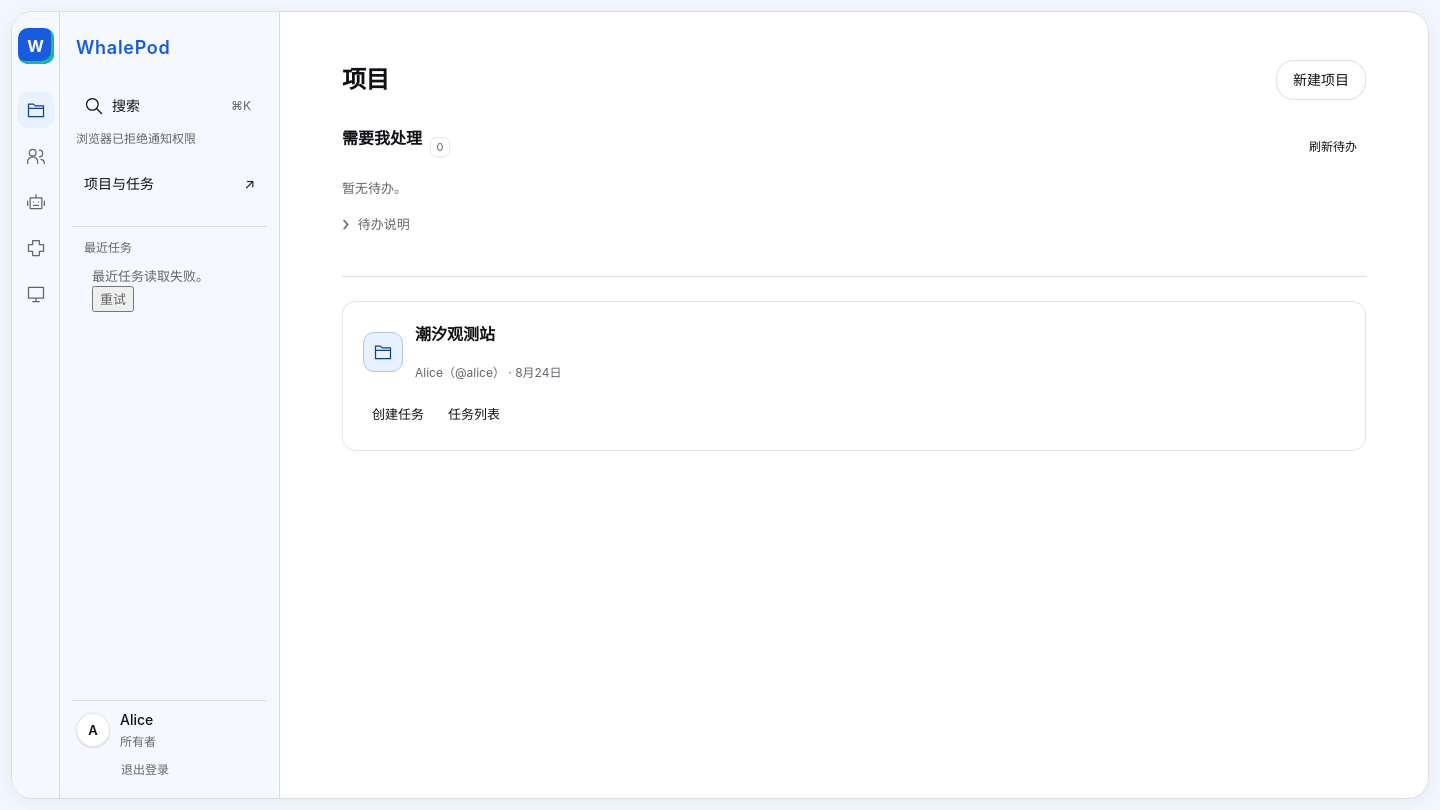
Test: #137 项目任务列表 › 空项目：明确空态而不是空白或报错
The image size is (1440, 810).
Click the button "任务列表".
click(474, 414)  # box [439,398,509,430]
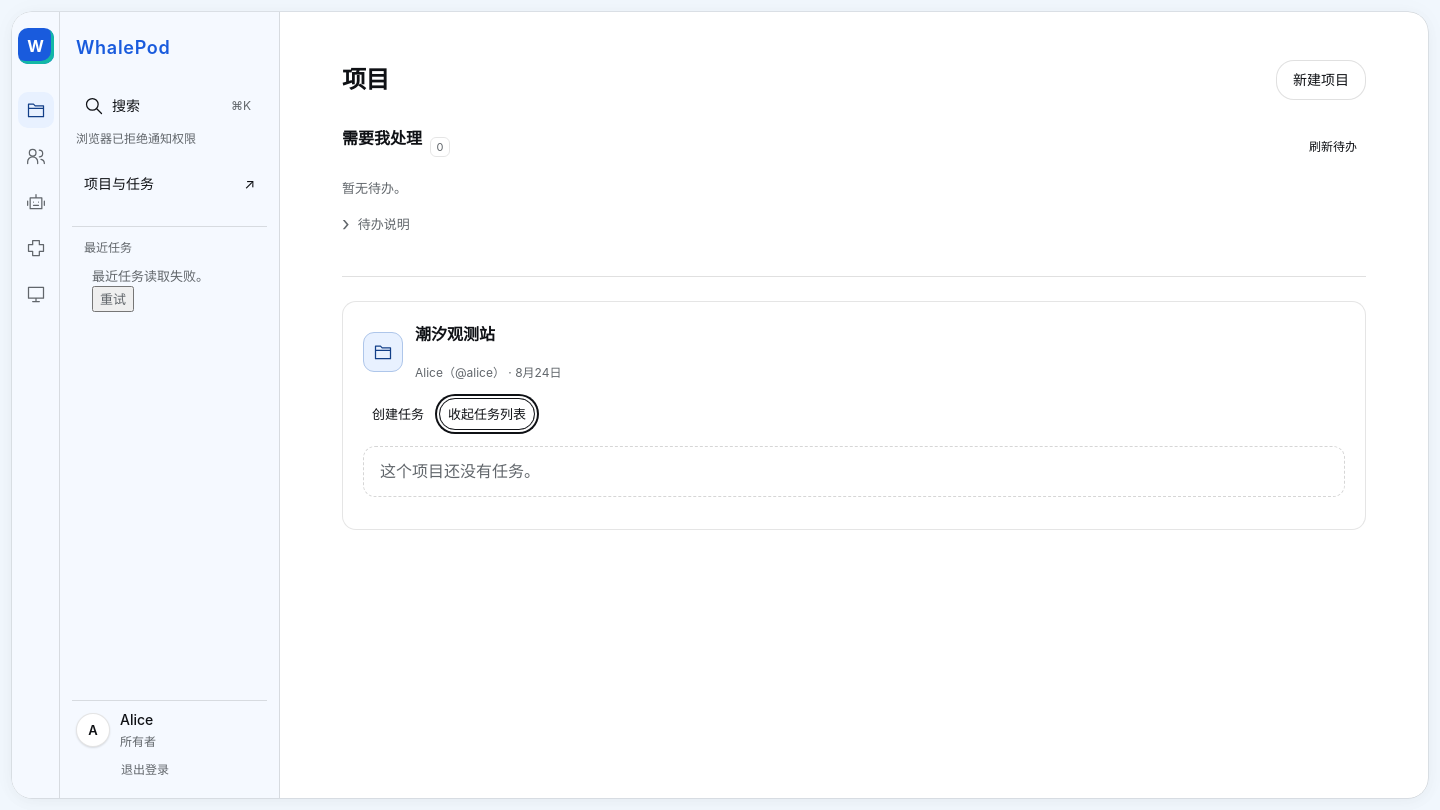
Now the text "这个项目还没有任务。" is shown, box [363,446,1345,497]
